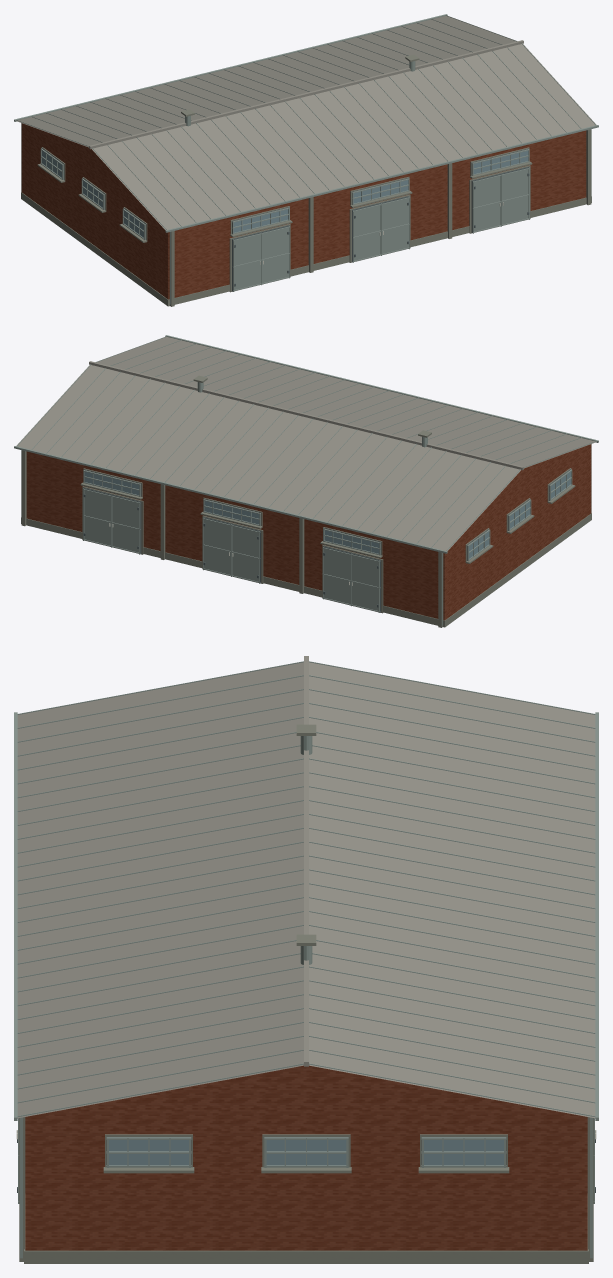
File: inspection_hall.glb
3 renders of one model, top to bottom at view 1: azimuth 30°, elevation 25°; view 2: azimuth 150°, elevation 25°; view 3: azimuth 270°, elevation 25°, orthographic. The views are drawn at different scales.
Visible parts, largest first — view 1: inspection_hall; view 2: inspection_hall; view 3: inspection_hall.
Part boxes in pixels (<box>): inspection_hall: <box>14,14,598,306</box>; inspection_hall: <box>14,335,598,627</box>; inspection_hall: <box>14,656,598,1263</box>.
Size of the model in its own units: 41 by 10.68 by 24.96.
7 materials, 2 textured.
